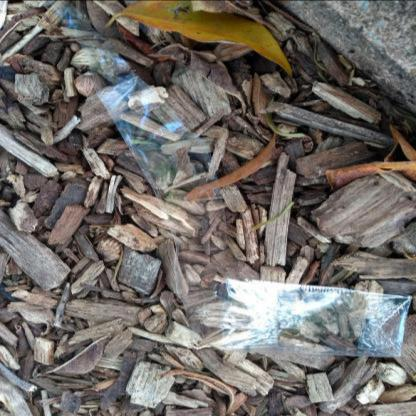Plastic bag - wrapper: (39, 1, 412, 357)
